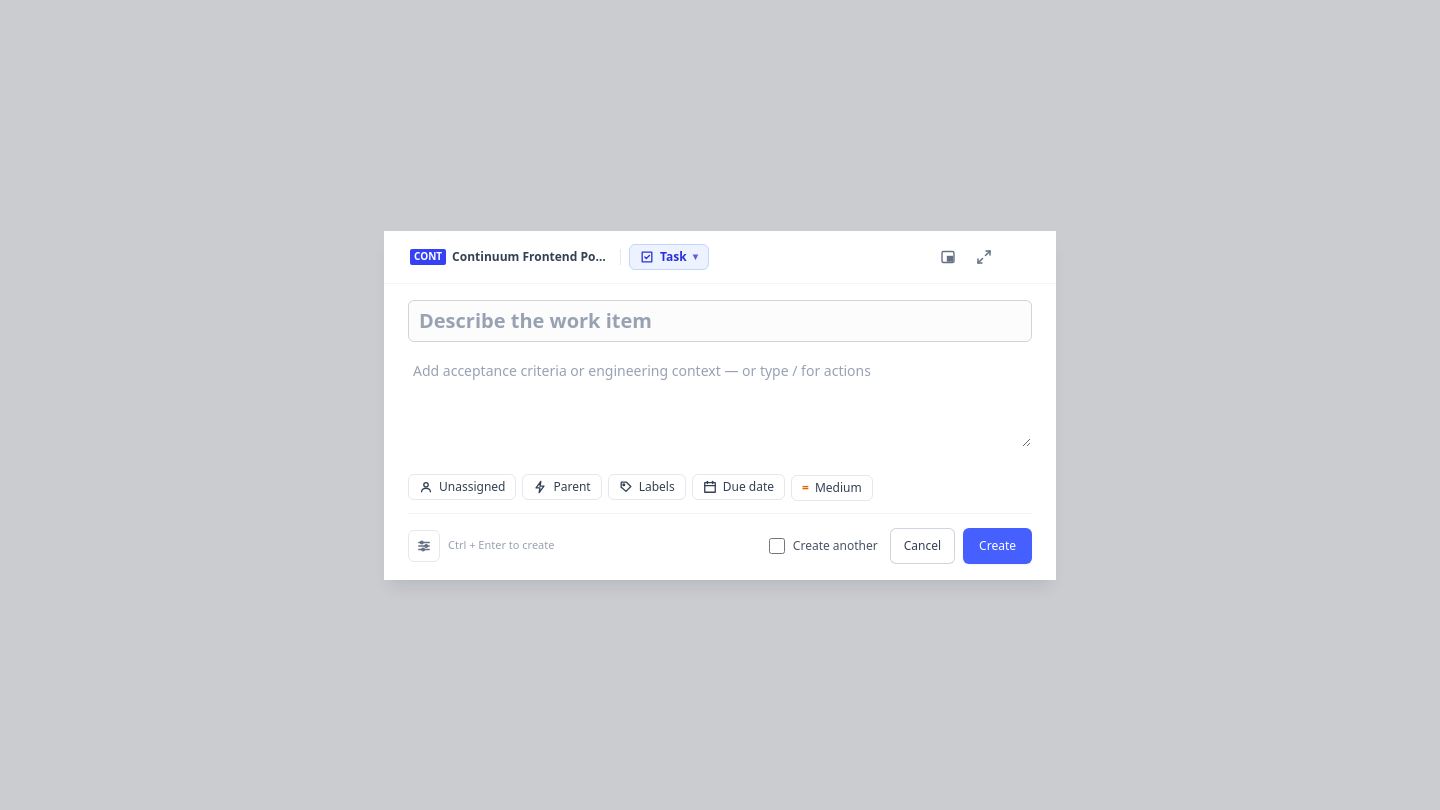
Test case: WorkItemCreateDialog (Jira Quick-Create experience) › keeps composer open and passes keepDialogOpen=true when 'Create another' is checked, and supports Dock & Expand modes
This screenshot has width=1440, height=810.
Click the button named "Dock to corner". click: (948, 256)
box: [932,240,964,272]
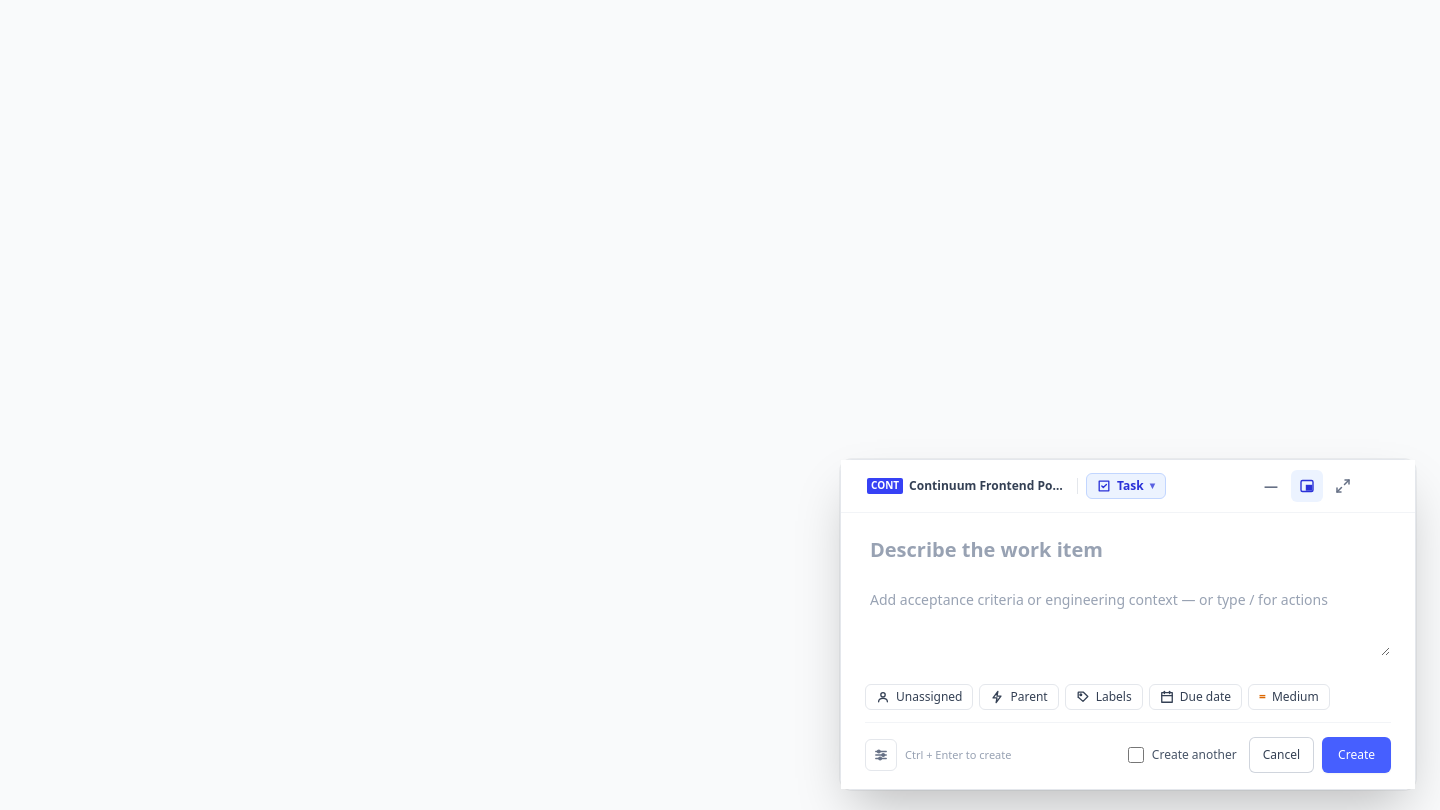
Expected: the button named "Center dialog" is pressed, [1291,470,1323,502]
Click the button named "Expand full fields". click: (1343, 486)
box: [1327,470,1359,502]
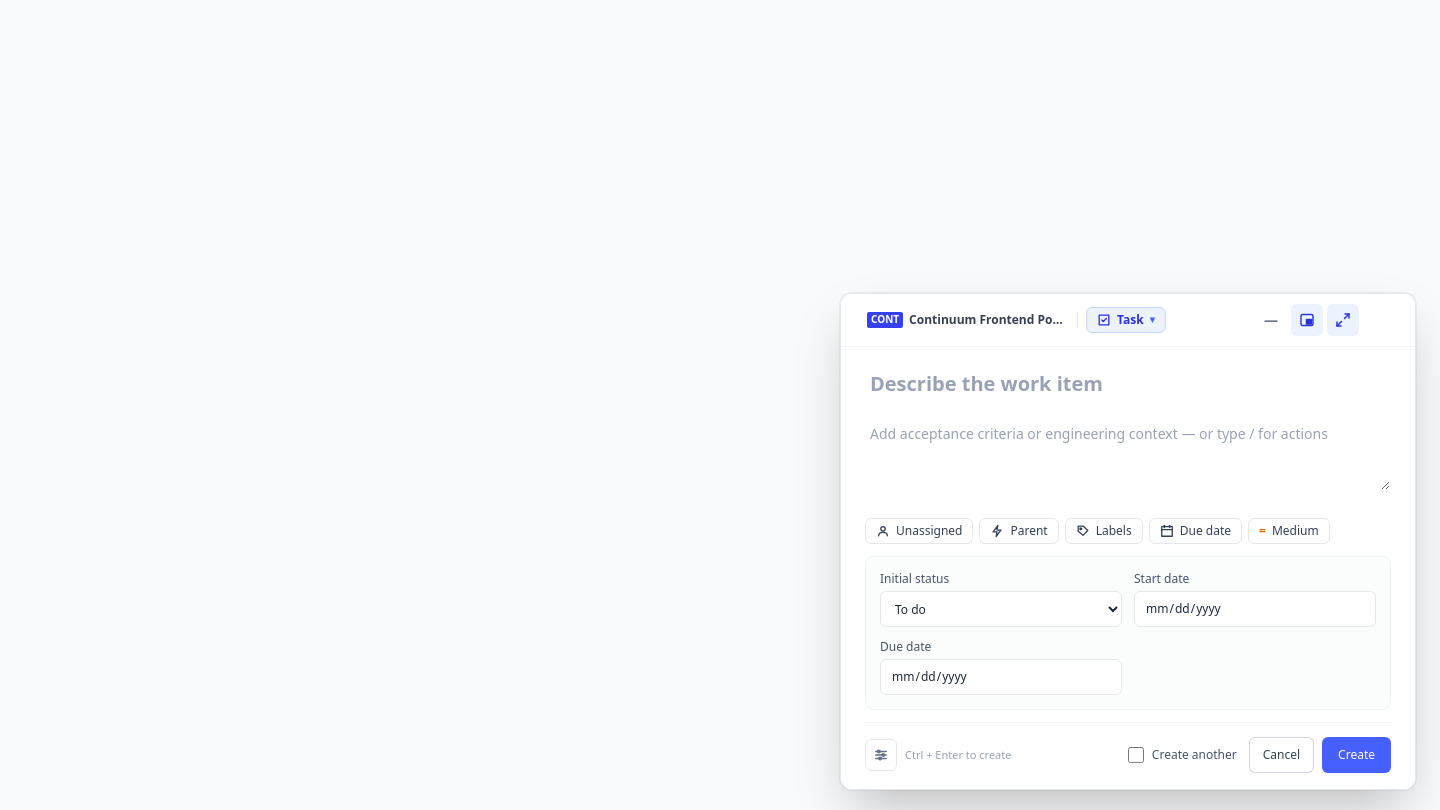
Expected: the date field labelled "Start date" is shown, [1134,591,1376,627]
# Check Create another
Click the checkbox labelled "Create another". click: (1136, 755)
box: [1128,747,1144,763]
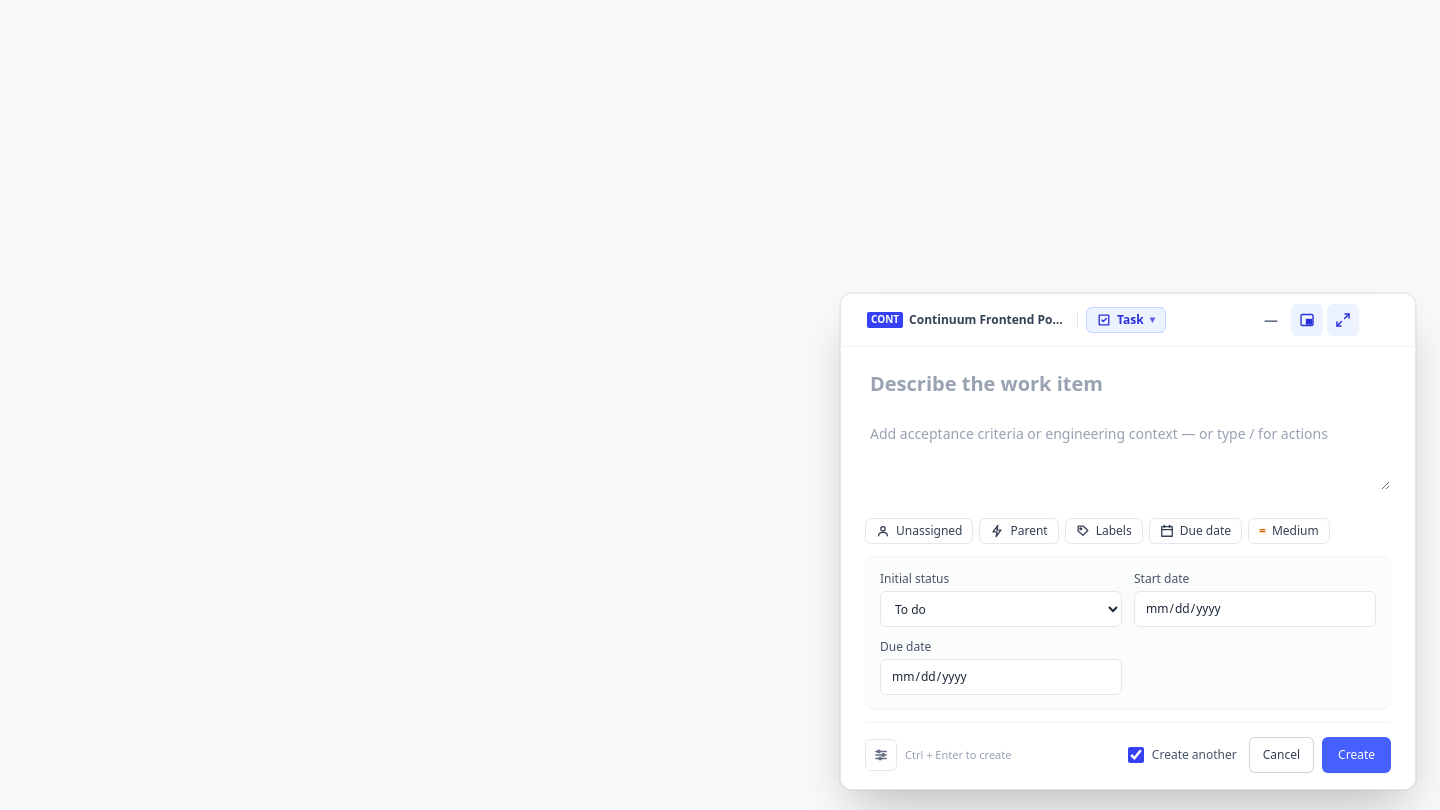
Type "Batch item 1" into the field named "Summary". click: (1128, 384)
box: [865,363,1391,405]
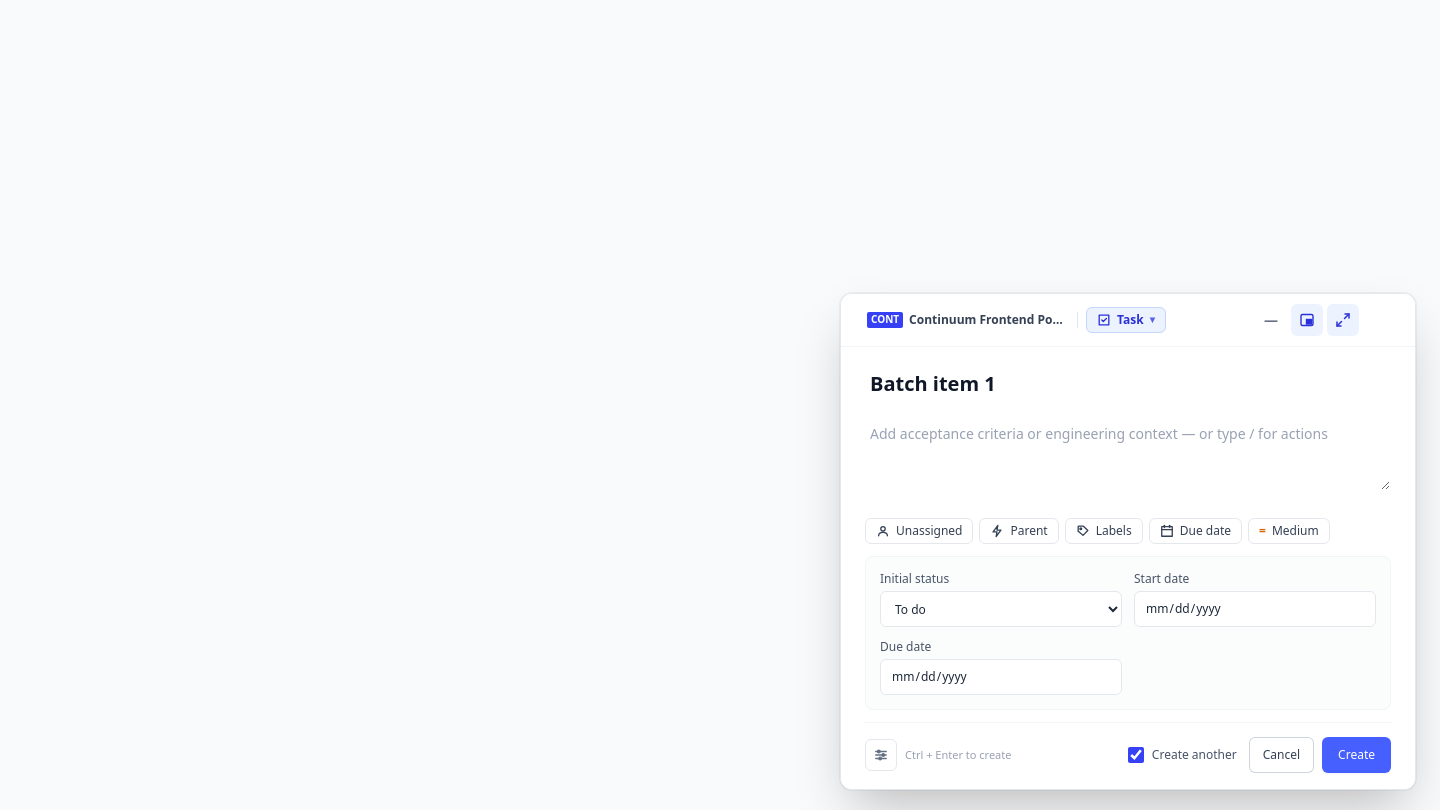
Click the button "Create". click: (1357, 755)
box: [1322,737,1391,773]
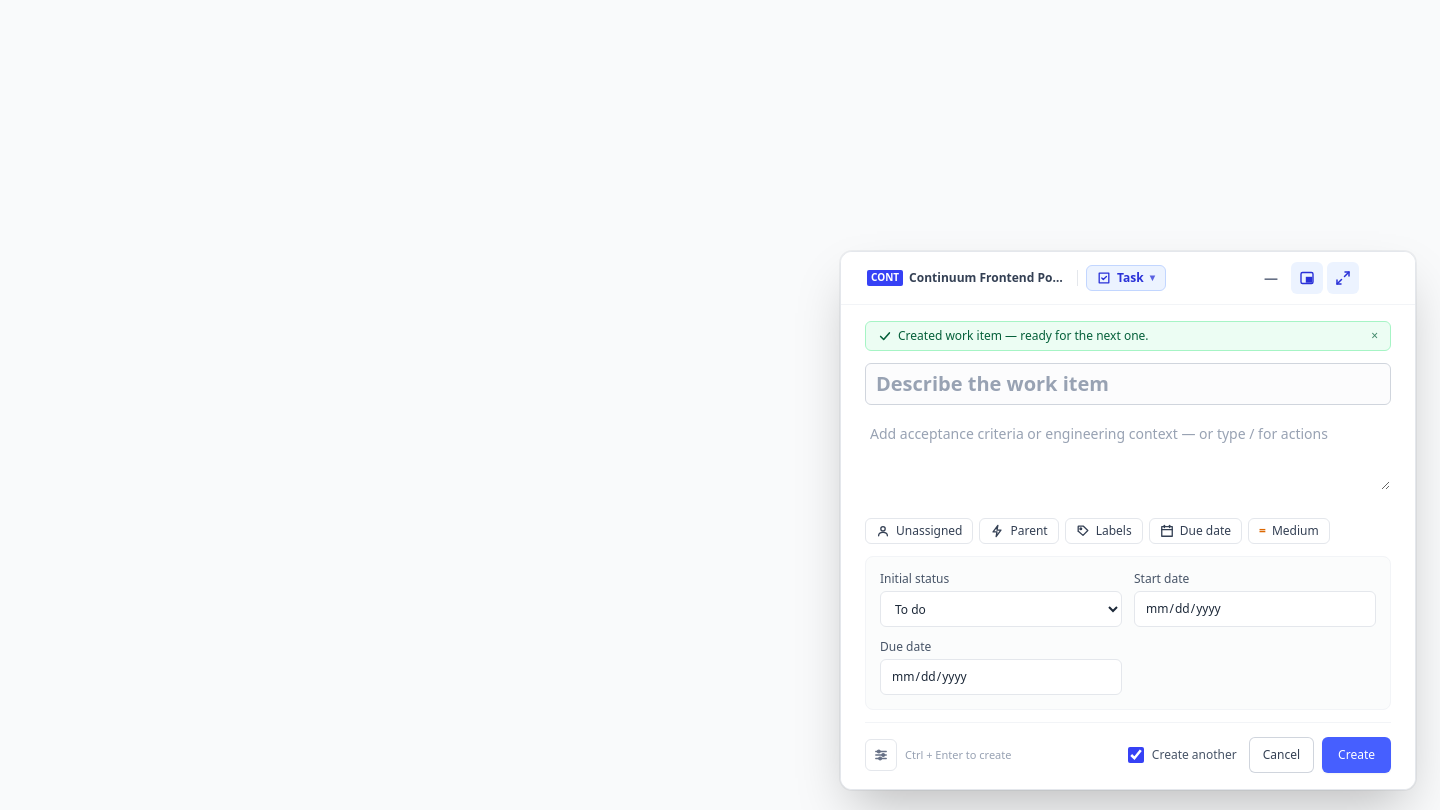
Expected: the text "Created work item — ready for the next one." is shown, [898,328,1149,344]
Expected: the field named "Summary" is empty, [865,363,1391,405]
